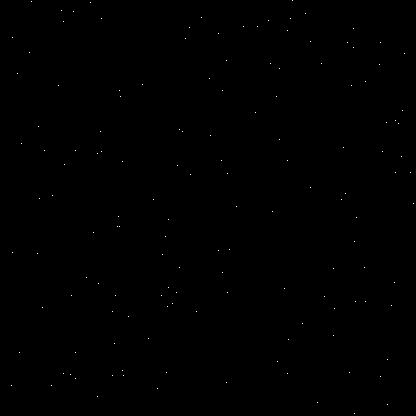Others: (85, 12, 276, 416)
